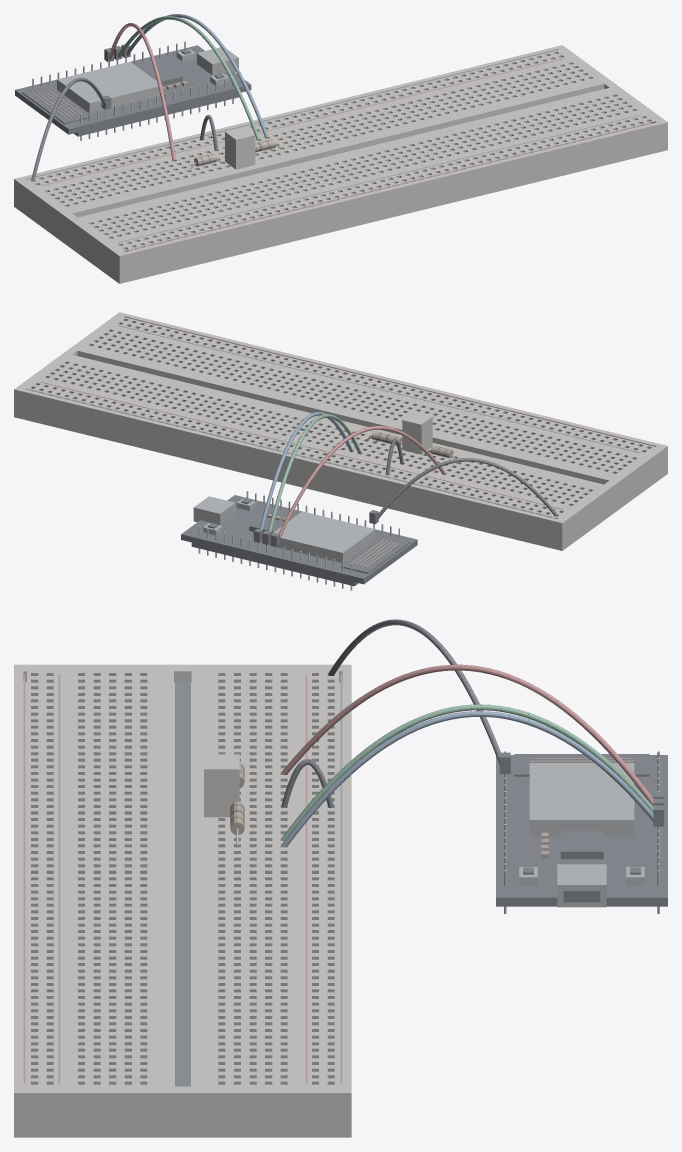
Rendered from step-9.glb.
3 renders of one model, top to bottom at view 1: azimuth 30°, elevation 25°; view 2: azimuth 150°, elevation 25°; view 3: azimuth 270°, elevation 25°, orthographic. The views are drawn at different scales.
Visible parts, largest first — view 1: breadboard__mesh, arduino__mesh, rgb_led__mesh, wire_green__mesh, wire_blue__mesh, wire_red__mesh, wire_gnd_rail__mesh; view 2: breadboard__mesh, arduino__mesh, wire_red__mesh, rgb_led__mesh, wire_gnd_rail__mesh, wire_green__mesh, wire_blue__mesh; view 3: breadboard__mesh, arduino__mesh, wire_blue__mesh, wire_red__mesh, wire_green__mesh, rgb_led__mesh, wire_gnd_rail__mesh.
Part boxes in pixels (box(x1,y1,x2,y2)): breadboard__mesh: box(14, 45, 667, 283); arduino__mesh: box(15, 41, 251, 140); rgb_led__mesh: box(225, 127, 255, 169); wire_green__mesh: box(114, 16, 259, 140); wire_blue__mesh: box(121, 14, 268, 138); wire_red__mesh: box(104, 23, 175, 160); wire_gnd_rail__mesh: box(31, 77, 111, 180); breadboard__mesh: box(14, 312, 667, 550); arduino__mesh: box(181, 491, 417, 590); wire_red__mesh: box(270, 426, 445, 546); rgb_led__mesh: box(402, 412, 432, 454); wire_gnd_rail__mesh: box(369, 458, 557, 524); wire_green__mesh: box(262, 414, 361, 544); wire_blue__mesh: box(253, 412, 353, 542); breadboard__mesh: box(14, 664, 351, 1137); arduino__mesh: box(496, 751, 667, 913); wire_blue__mesh: box(282, 711, 664, 847); wire_red__mesh: box(282, 664, 664, 806); wire_green__mesh: box(282, 704, 664, 840); rgb_led__mesh: box(204, 754, 239, 817); wire_gnd_rail__mesh: box(328, 619, 510, 773).
Size of the model in its own units: 0.165 by 0.031 by 0.1065.
